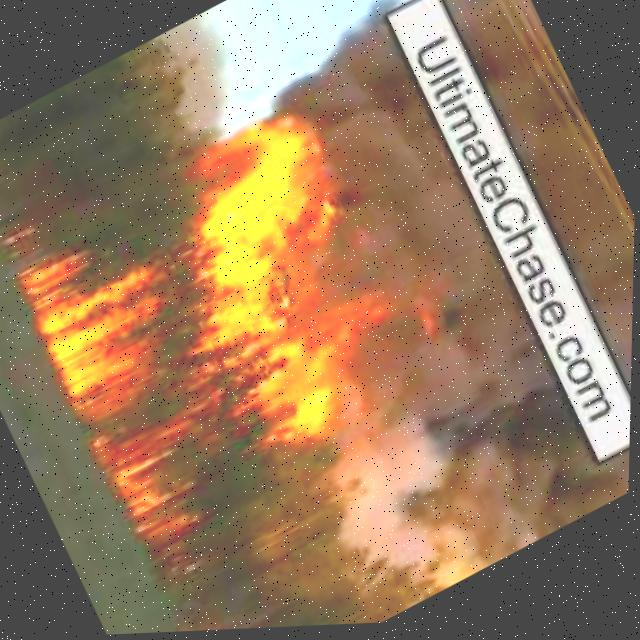Fire: (0, 100, 461, 563)
Smoke: (272, 0, 629, 564), (434, 0, 640, 483)
